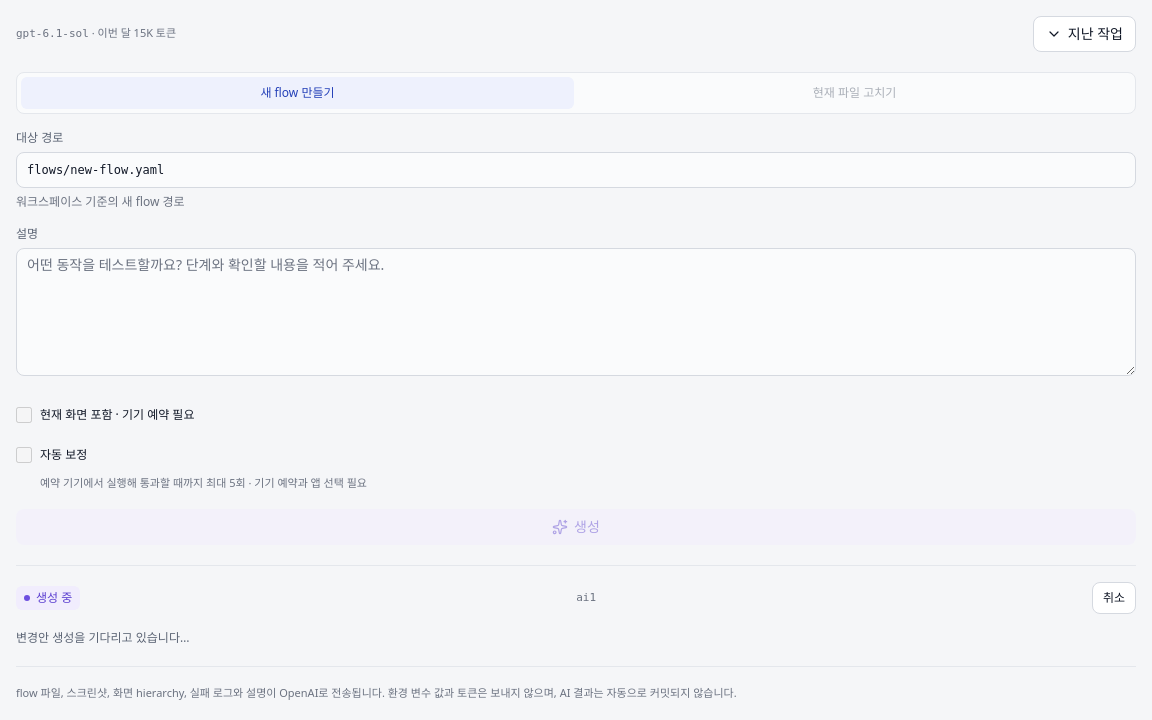
Test: cancels a running job and stops showing cancel after the returned state is terminal
The width and height of the screenshot is (1152, 720).
Click the button "취소": [1114, 598] box left=1092, top=582, right=1136, bottom=614
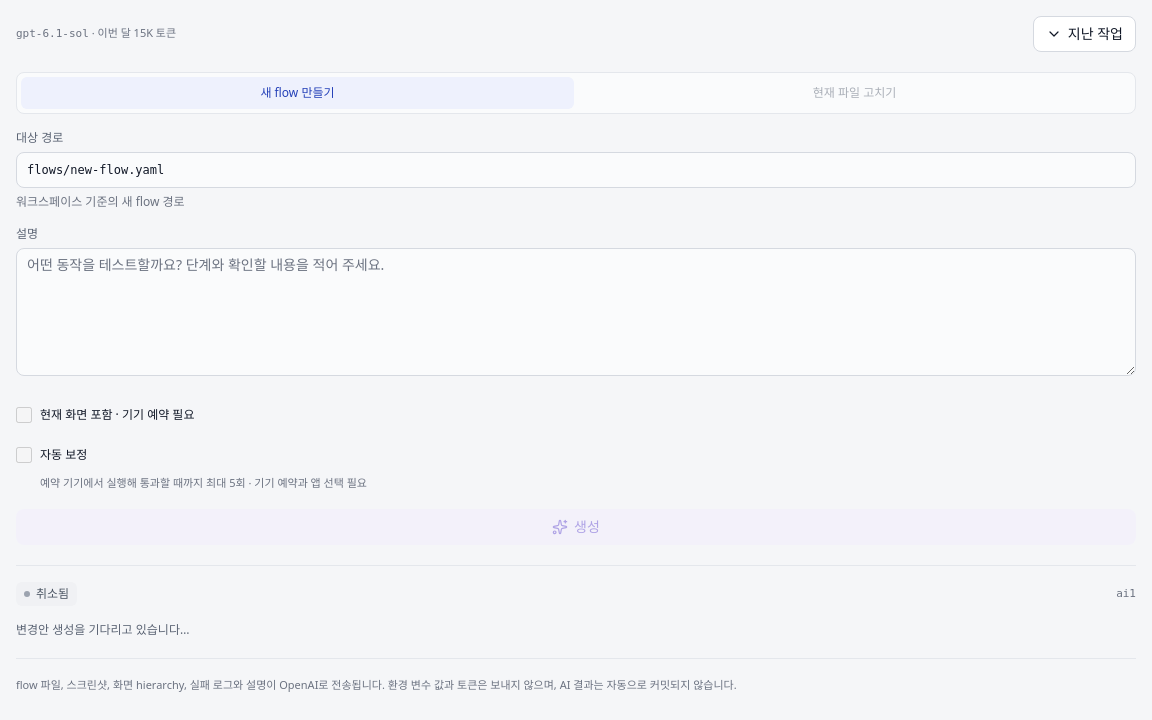
Now the text "취소됨" is shown, box left=16, top=582, right=77, bottom=606
